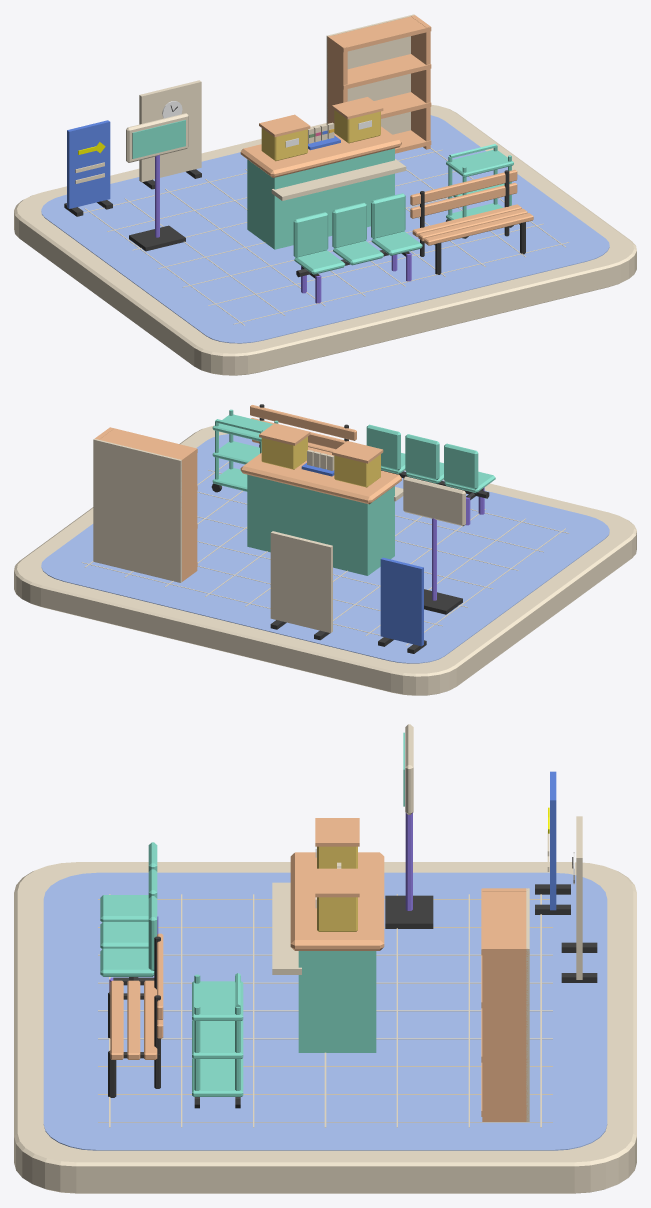
3 renders of one model, top to bottom at view 1: azimuth 30°, elevation 25°; view 2: azimuth 150°, elevation 25°; view 3: azimuth 270°, elevation 25°, orthographic. The views are drawn at different scales.
Parts seen in each view (by area): view 1: COM-02 Floor Surface, COM-01 Rounded Base Direct, Counter body, Panel.001, Panel, Back.003, Countertop, Side.001, Visitor shelf, Shelf.003, Shelf.002, Inset (+20 smaller); view 2: COM-02 Floor Surface, COM-01 Rounded Base Direct, Back.003, Counter body, Panel.001, Panel, Countertop, Sign panel, Side, Back, Back.001, Shelf.003 (+11 smaller); view 3: COM-02 Floor Surface, COM-01 Rounded Base Direct, Counter body, Side.001, Countertop, Shelf.003, Visitor shelf, Tray.002, Tray, Tray.001, Foot, Seat.002 (+14 smaller).
Boxes of the visible parts, box(x1,y1,x2,y2) form: COM-02 Floor Surface: box(41, 115, 609, 343); COM-01 Rounded Base Direct: box(14, 104, 636, 375); Counter body: box(247, 148, 394, 249); Panel.001: box(139, 80, 201, 182); Panel: box(67, 120, 110, 208); Back.003: box(326, 14, 414, 134); Countertop: box(240, 126, 401, 177); Side.001: box(411, 15, 430, 149); Visitor shelf: box(271, 159, 406, 200); Shelf.003: box(333, 16, 431, 52); Shelf.002: box(343, 54, 431, 89); Inset: box(132, 120, 185, 158); COM-02 Floor Surface: box(41, 434, 609, 663); COM-01 Rounded Base Direct: box(14, 425, 636, 695); Back.003: box(93, 438, 181, 582); Counter body: box(247, 474, 394, 575); Panel.001: box(270, 531, 332, 633); Panel: box(380, 557, 423, 646); Countertop: box(240, 453, 401, 504); Sign panel: box(403, 476, 465, 526); Side: box(178, 447, 197, 581); Back: box(444, 443, 478, 489); Back.001: box(405, 434, 439, 479); Shelf.003: box(99, 427, 197, 461); COM-02 Floor Surface: box(43, 872, 607, 1150); COM-01 Rounded Base Direct: box(14, 862, 636, 1193); Counter body: box(298, 951, 376, 1052); Side.001: box(482, 946, 527, 1121); Countertop: box(290, 852, 384, 950); Shelf.003: box(481, 888, 529, 955); Visitor shelf: box(272, 882, 301, 974); Tray.002: box(192, 981, 243, 1020); Tray: box(192, 1058, 243, 1096); Tray.001: box(192, 1020, 243, 1058); Foot: box(385, 895, 433, 928); Seat.002: box(100, 948, 154, 976).
Bounding box in the file's own units: 6 × 1.9 × 5.2.
1 material, 1 textured.
